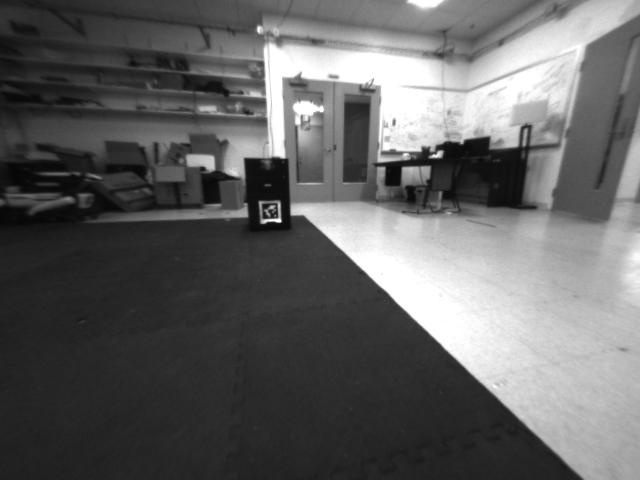door_handle: (319, 143, 333, 155)
drawer: (257, 159, 279, 176)
